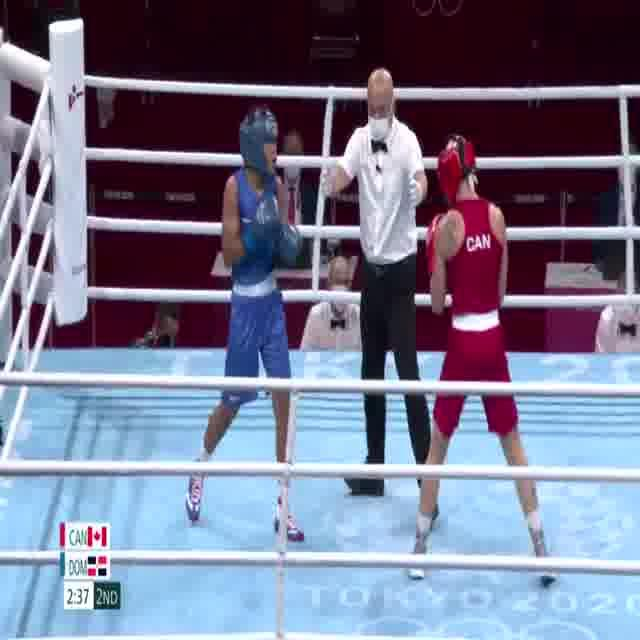blue-player: (182, 103, 306, 544)
red-player: (402, 135, 560, 590)
referee: (321, 65, 441, 533)
